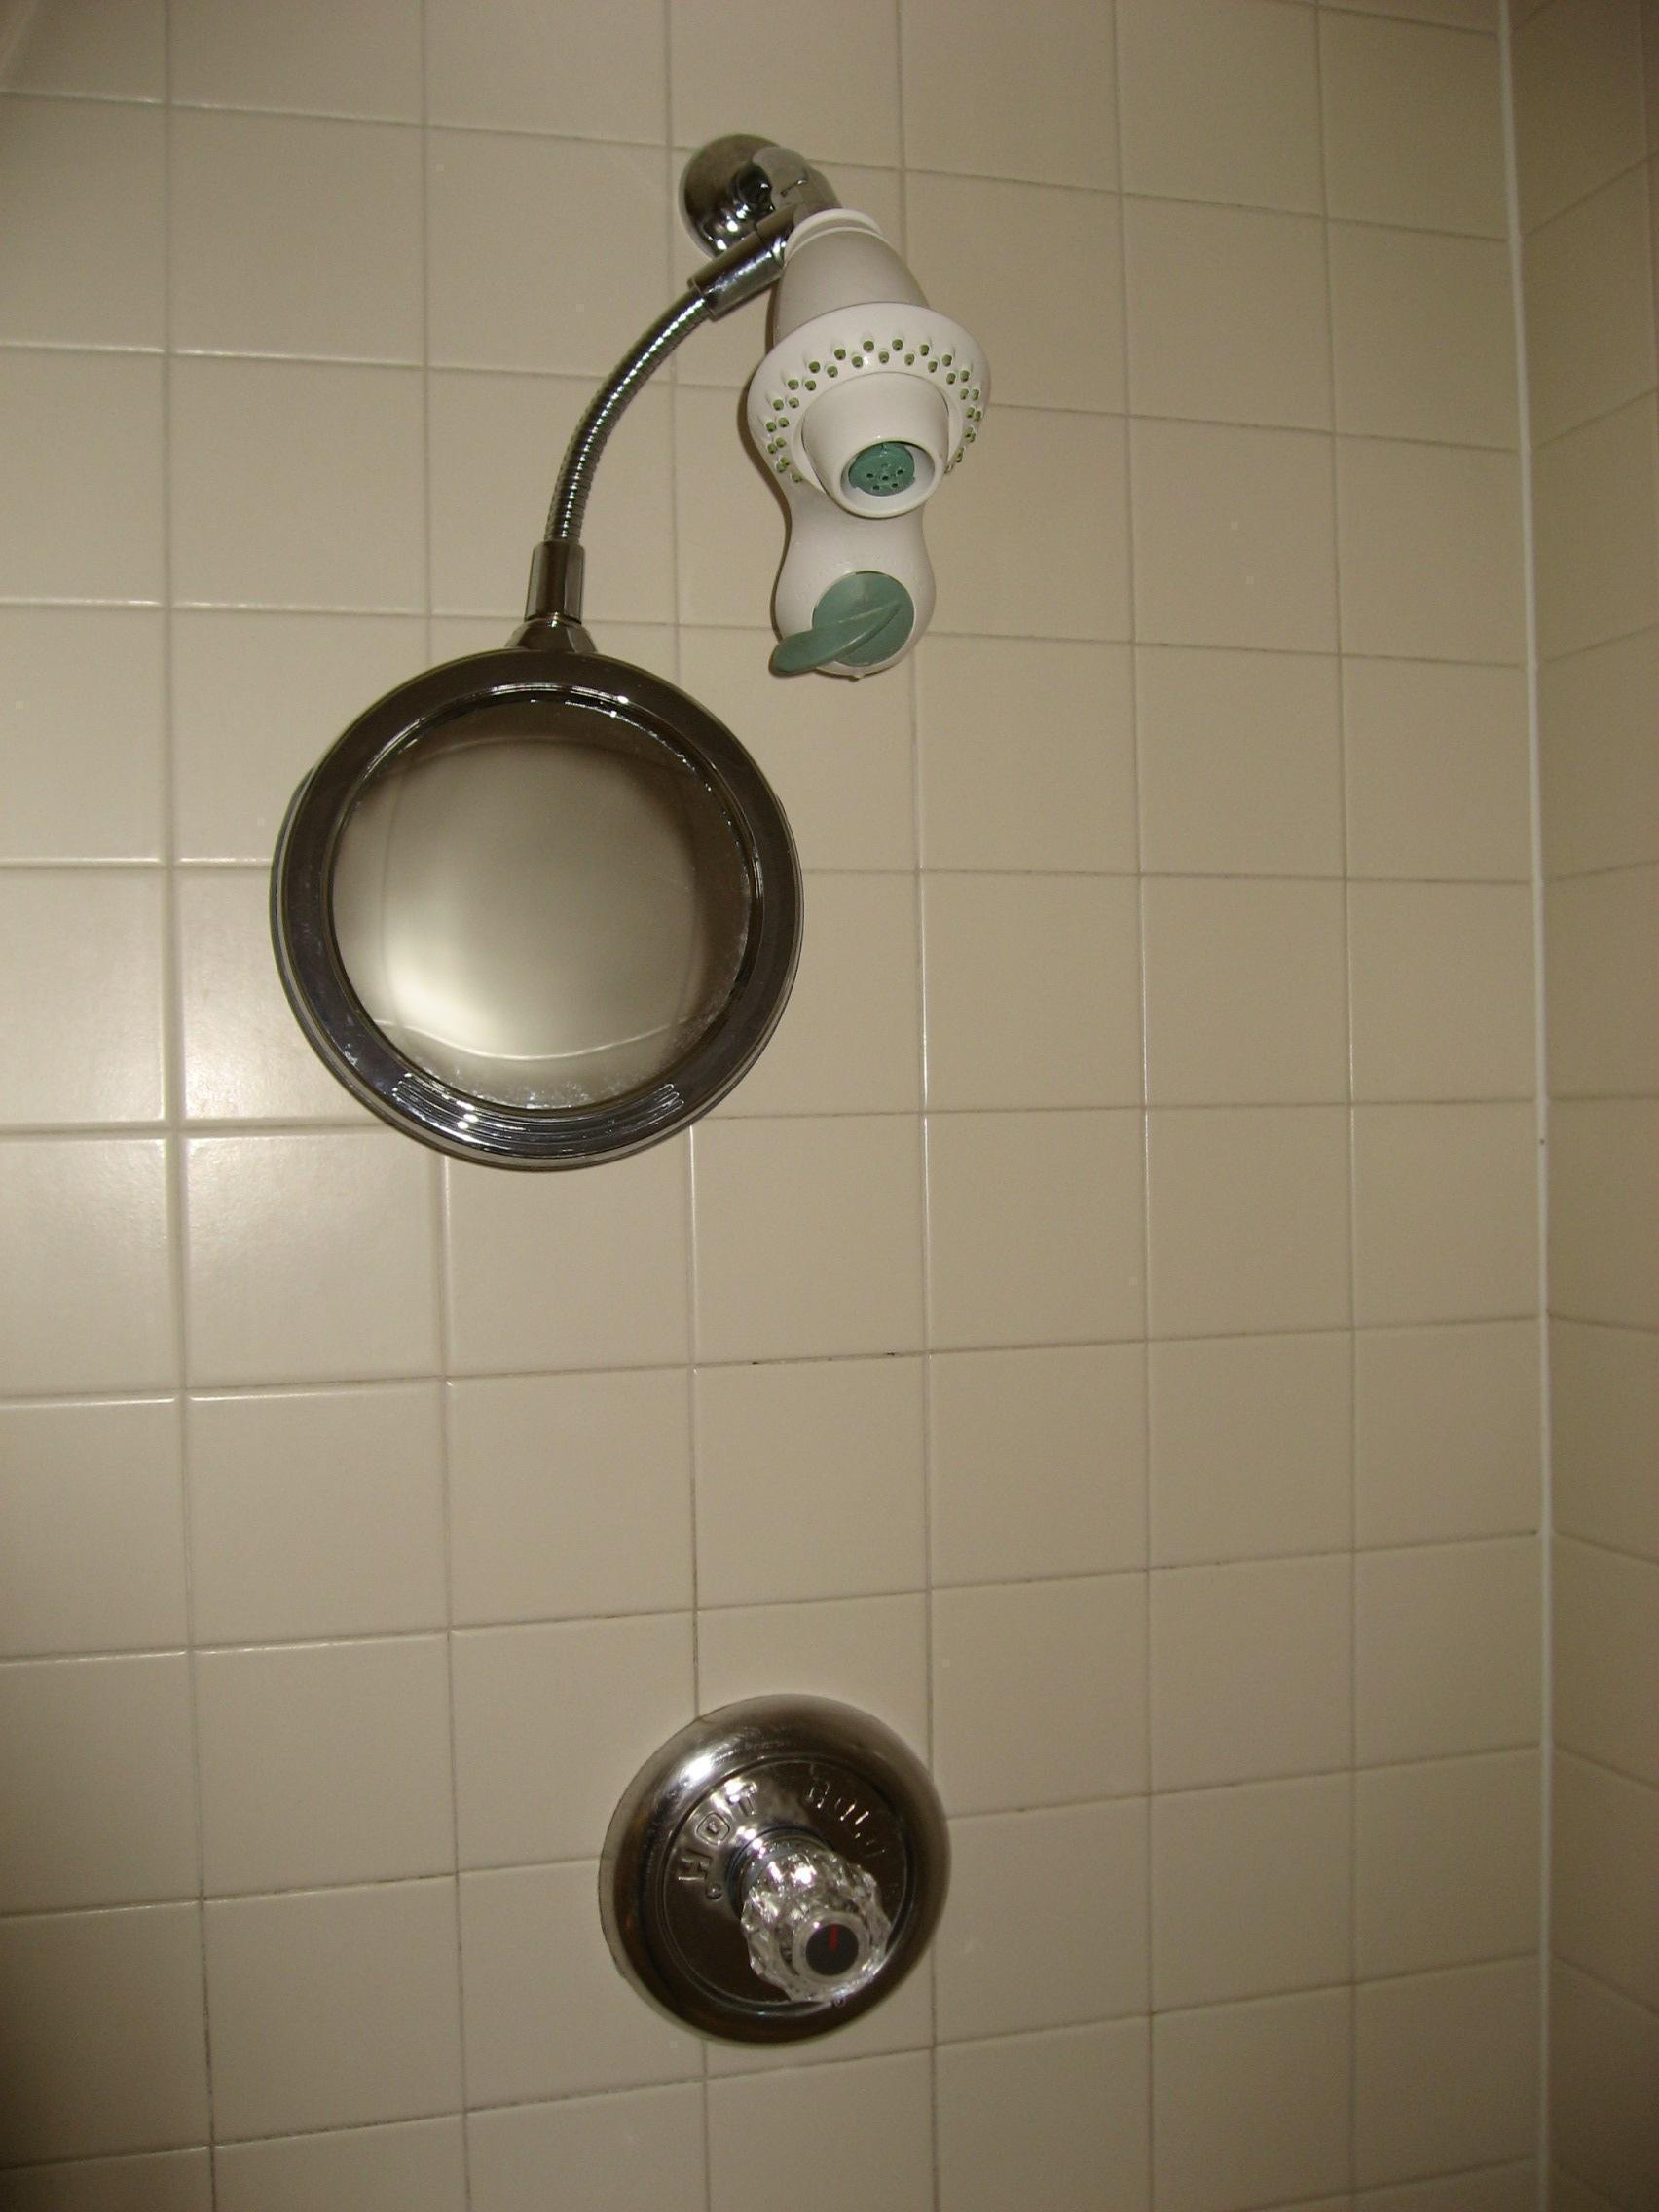Ducha: (21, 52, 1556, 2172)
